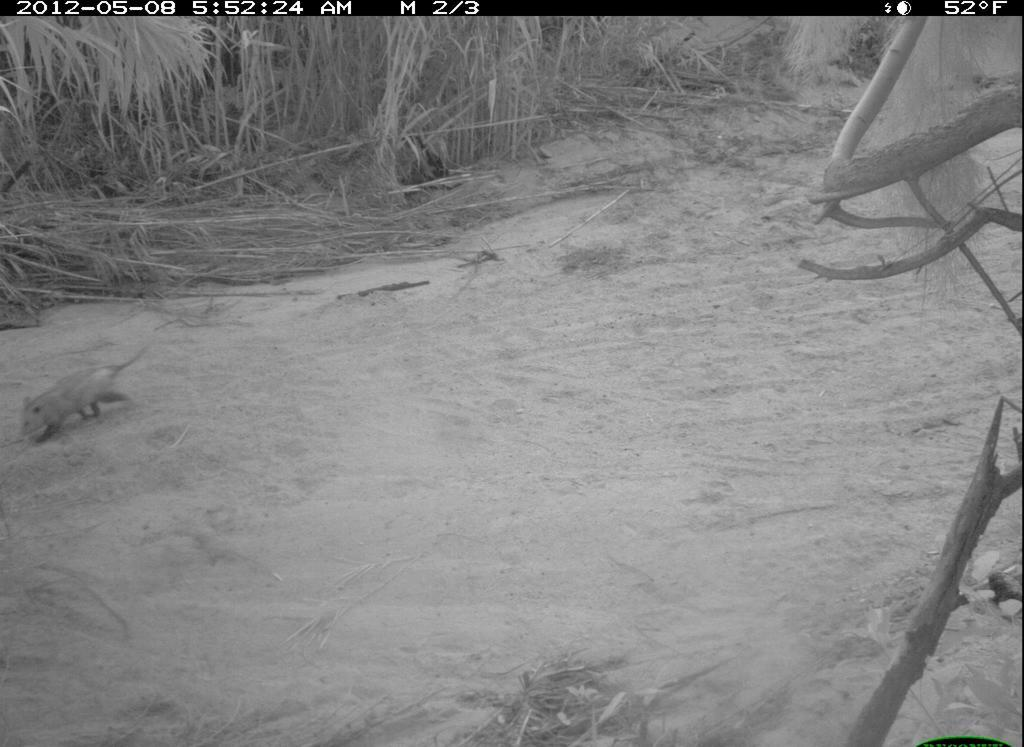opossum: (15, 347, 185, 452)
